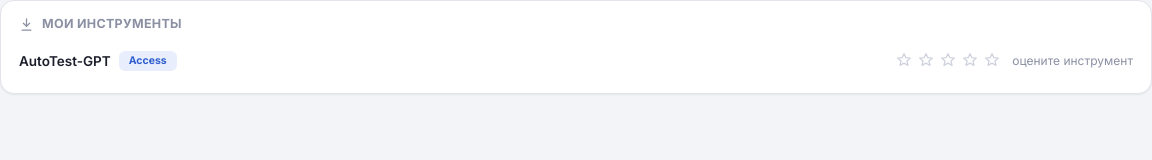
Scenario: MyDownloadsPanel › clicking a star rates the tool and merges the response into it
The image size is (1152, 160).
Click the 5th button with class "star-btn" at (992, 61), box [982, 50, 1002, 73]
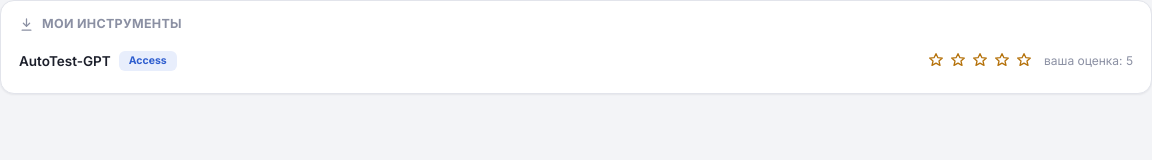
Now the text "ваша оценка: 5" is shown, box [1044, 52, 1133, 70]
